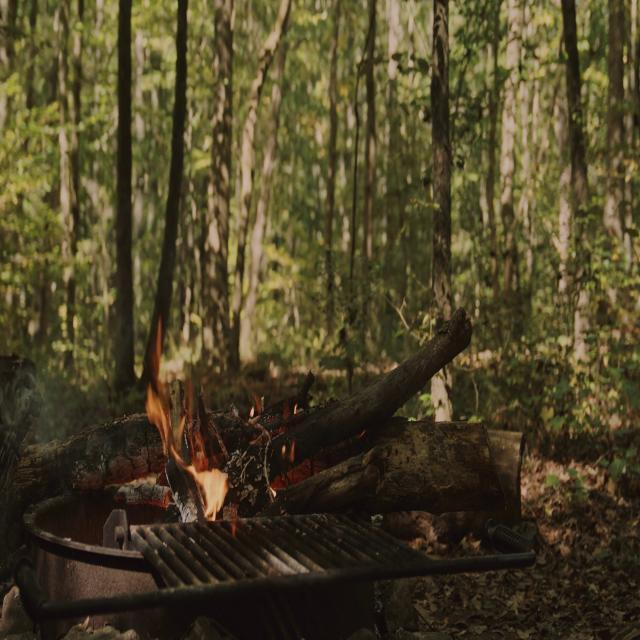Fire: (143, 349, 229, 527)
